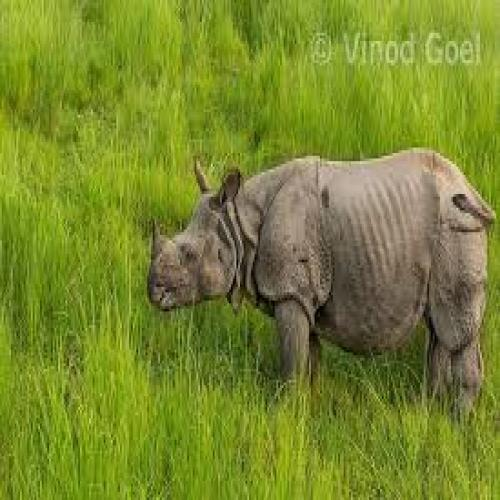rhino-endangered: (146, 148, 495, 414)
